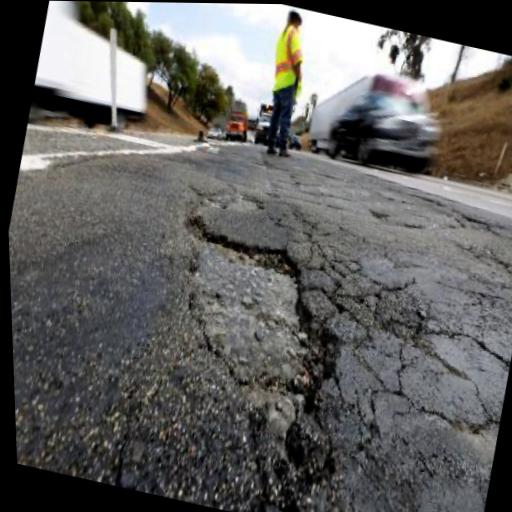pothole: (150, 206, 367, 413), (227, 404, 345, 512), (193, 179, 264, 221)
